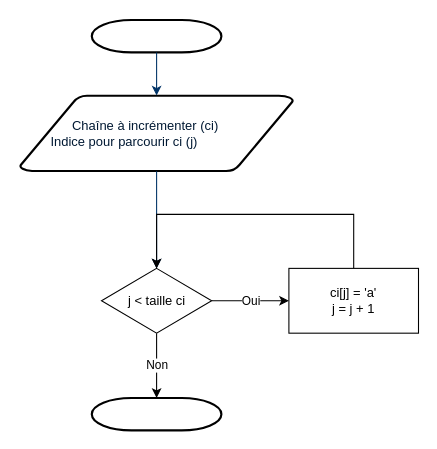
This 437x449 diagram has some shape labels left out. Each missing label, with the centre of its shape:
"Début" belongs at pixel 156 35.
"Fin" belongs at pixel 156 413.
